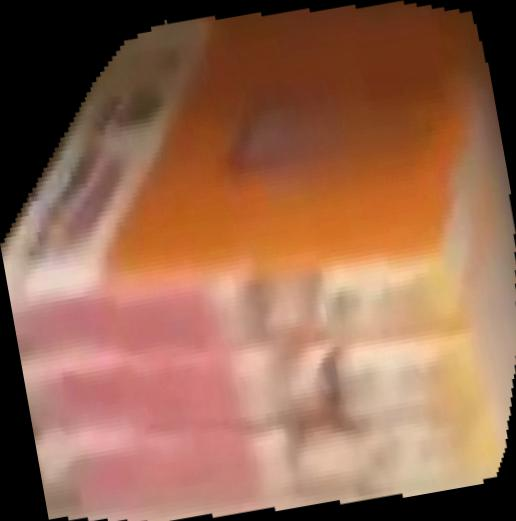flat: (1, 1, 516, 521)
